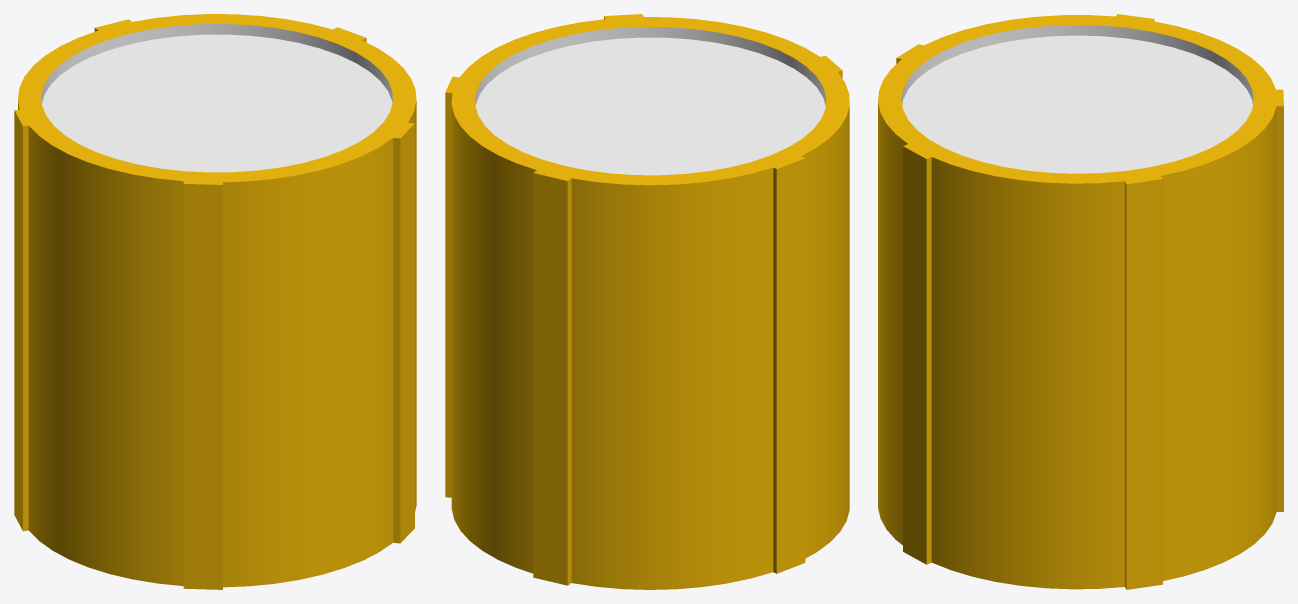
File: Drum.fbx
3 renders of one model, left to right at view 1: azimuth 30°, elevation 25°; view 2: azimuth 150°, elevation 25°; view 3: azimuth 270°, elevation 25°, orthographic.
Parts seen in each view (by area): view 1: RealDrum; view 2: RealDrum; view 3: RealDrum.
Part boxes in pixels (<box>): RealDrum: <box>14,14,416,589</box>; RealDrum: <box>445,14,849,589</box>; RealDrum: <box>878,14,1283,589</box>.
Bounding box in the file's own units: 34.31 × 38.1 × 34.56.
